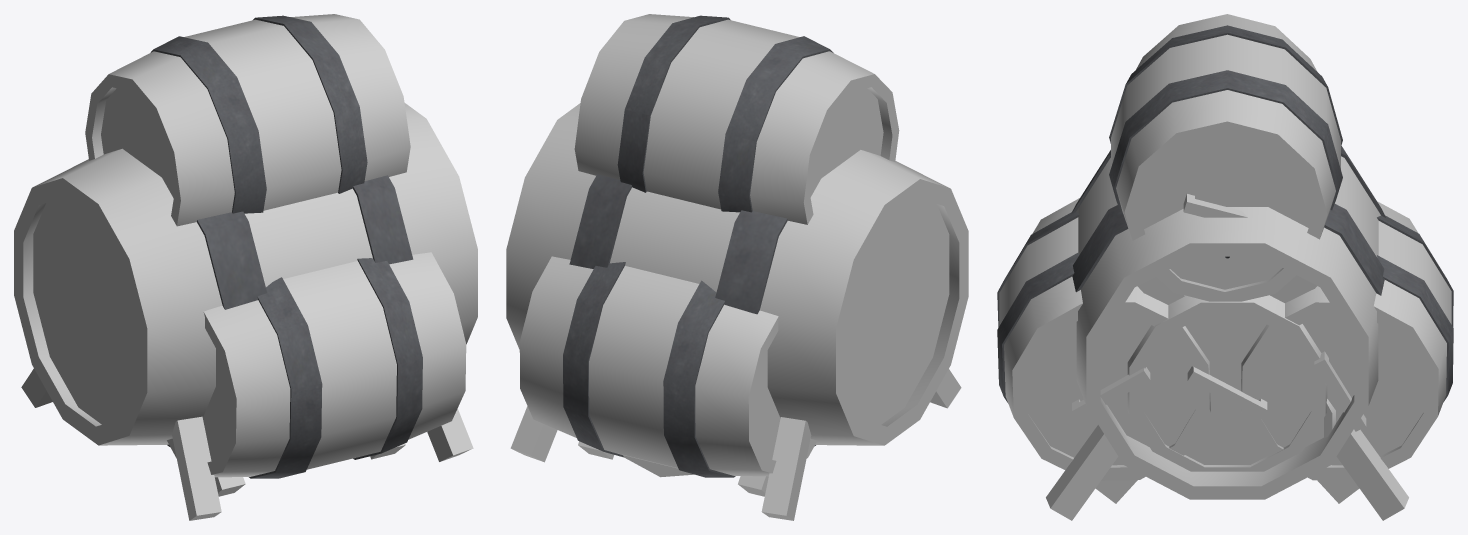
File: barrels.fbx
3 renders of one model, left to right at view 1: azimuth 30°, elevation 25°; view 2: azimuth 150°, elevation 25°; view 3: azimuth 270°, elevation 25°, orthographic.
Visible parts, largest first — view 1: barrel.010, barrel.008, barrel.006, legs, stand; view 2: barrel.010, barrel.008, barrel.007, legs, stand, top.002; view 3: barrel.008, barrel.010, barrel.006, barrel.001, barrel.007, legs, stand.
Boxes of the visible parts, x1,y1,x2,y2 form: barrel.010: (14, 103, 477, 446); barrel.008: (85, 14, 410, 226); barrel.006: (167, 252, 466, 478); legs: (21, 368, 473, 520); stand: (215, 443, 405, 496); barrel.010: (506, 103, 968, 446); barrel.008: (574, 14, 899, 224); barrel.007: (519, 256, 816, 477); legs: (510, 369, 961, 520); stand: (578, 441, 768, 496); top.002: (623, 455, 693, 477); barrel.008: (1109, 14, 1342, 301); barrel.010: (1071, 146, 1385, 499); barrel.006: (997, 198, 1210, 480); barrel.001: (1127, 295, 1327, 471); barrel.007: (1240, 201, 1453, 480); legs: (1046, 425, 1408, 520); stand: (1095, 275, 1359, 503).
Bounding box in the file's own units: 161 × 158 × 135.
